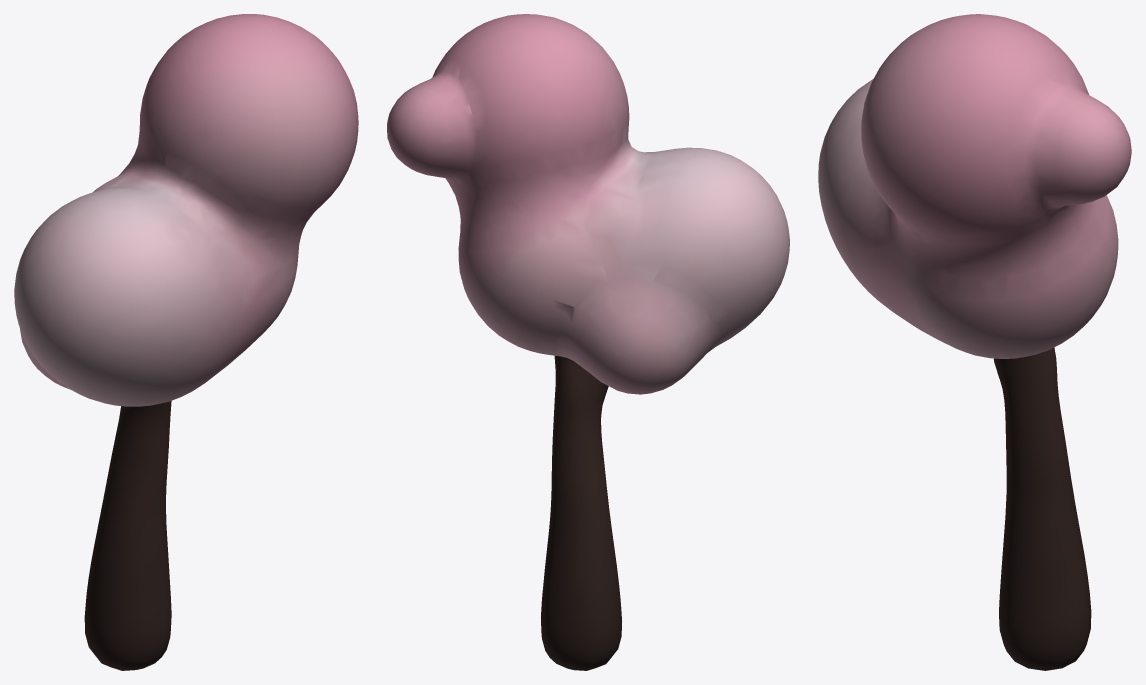
The model's file is tree_04_2.glb.
3 renders of one model, left to right at view 1: azimuth 30°, elevation 25°; view 2: azimuth 150°, elevation 25°; view 3: azimuth 270°, elevation 25°, orthographic. The views are drawn at different scales.
Visible parts, largest first — view 1: canopy, bark; view 2: canopy, bark; view 3: canopy, bark.
Boxes of the visible parts, left/top/right/bottom form: canopy: left=14, top=14, right=358, bottom=406; bark: left=84, top=401, right=171, bottom=670; canopy: left=387, top=14, right=789, bottom=394; bark: left=541, top=356, right=621, bottom=670; canopy: left=818, top=14, right=1131, bottom=358; bark: left=993, top=347, right=1091, bottom=670.
Bounding box in the file's own units: 1.25 × 2.25 × 0.9299.
